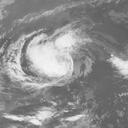cyclone: (26, 31, 82, 83)
